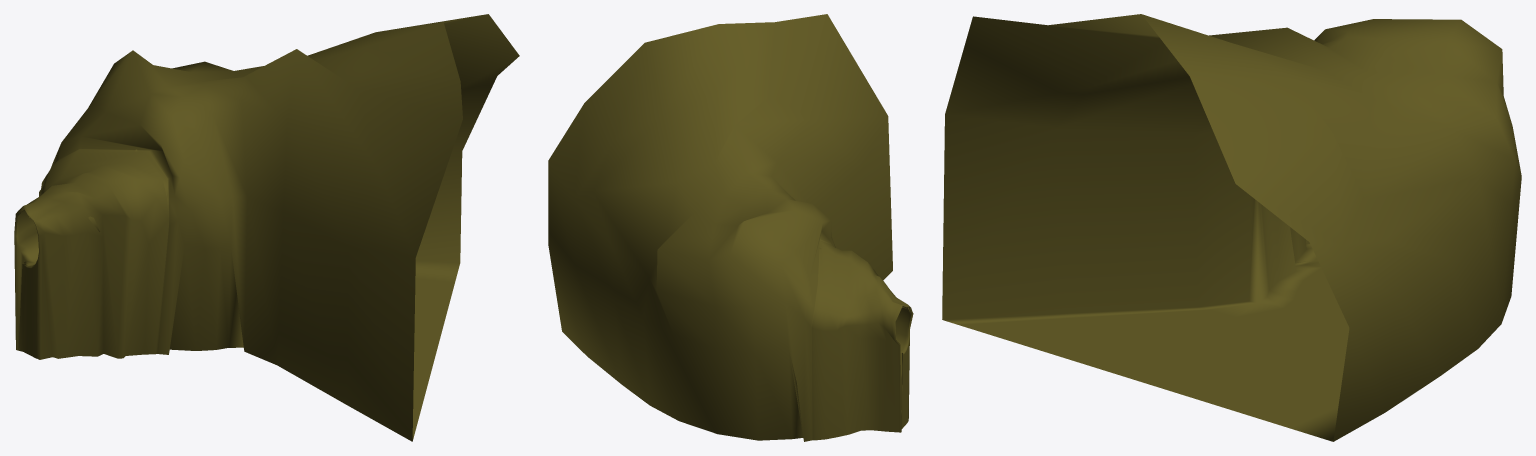
File: arena2.fbx
3 renders of one model, left to right at view 1: azimuth 30°, elevation 25°; view 2: azimuth 150°, elevation 25°; view 3: azimuth 270°, elevation 25°, orthographic. The views are drawn at different scales.
Visible parts, largest first — view 1: Tunnel; view 2: Tunnel; view 3: Tunnel.
Boxes of the visible parts, <box> form: Tunnel: <box>14,14,519,441</box>; Tunnel: <box>548,14,913,441</box>; Tunnel: <box>942,14,1521,441</box>.
Size of the model in its own units: 16214 by 11246 by 15883.
